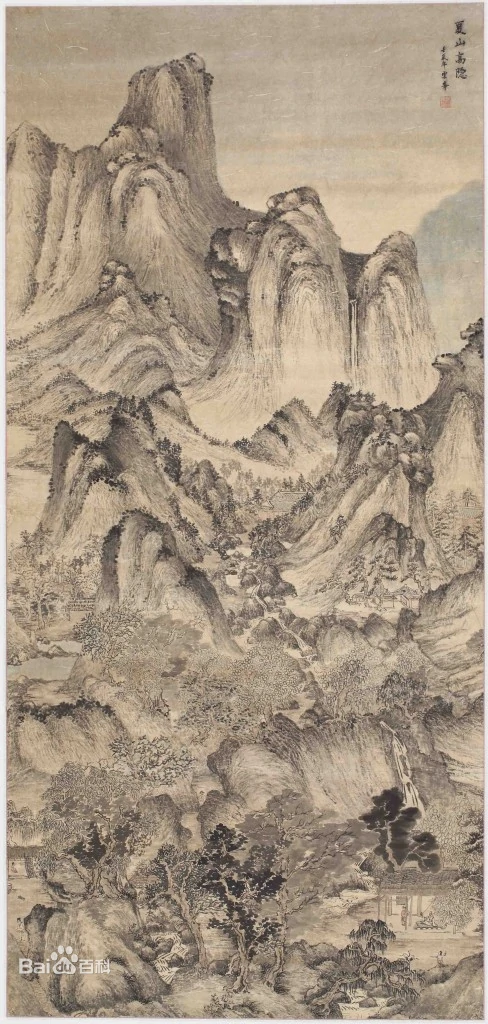creek: (225, 515, 314, 702)
house: (374, 860, 473, 946)
lake: (13, 634, 95, 688)
mountain: (5, 46, 422, 296), (268, 312, 485, 545)
pine: (333, 914, 425, 1009)
range: (29, 258, 209, 614)
rock: (27, 888, 174, 1010)
tree: (192, 827, 287, 996), (36, 810, 187, 905), (351, 791, 445, 880), (112, 729, 195, 791)
waterfall: (373, 714, 439, 822)
